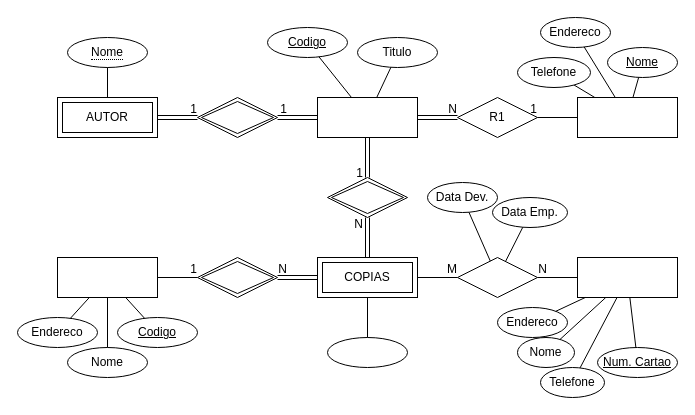
Image size: 695x415. Some labels were removed from this diagram. Each missing label, with the centre of its shape:
BIBLIOTECA: the point at 107,277
EDITORA: the point at 627,117
EMPRE.: the point at 497,277
LIVRO: the point at 367,117
Quantidade: the point at 367,352
R2: the point at 237,117
R3: the point at 367,197
R4: the point at 237,277
USUARIO: the point at 627,277
